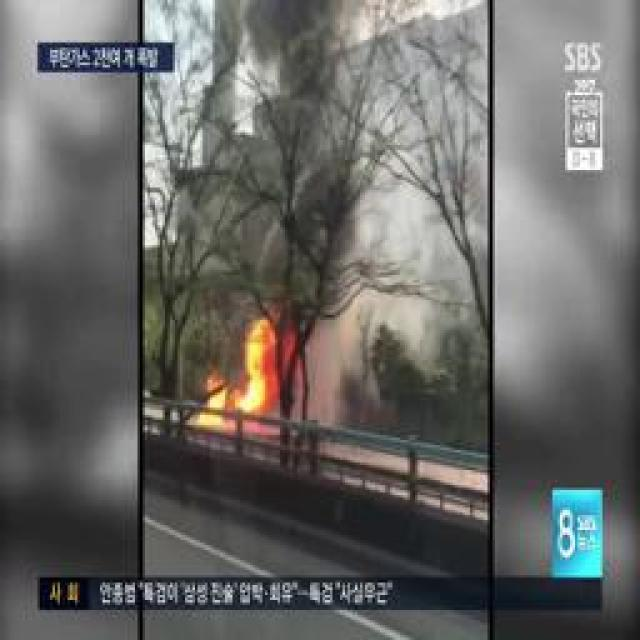Fire: (246, 324, 292, 416), (197, 374, 246, 424)
